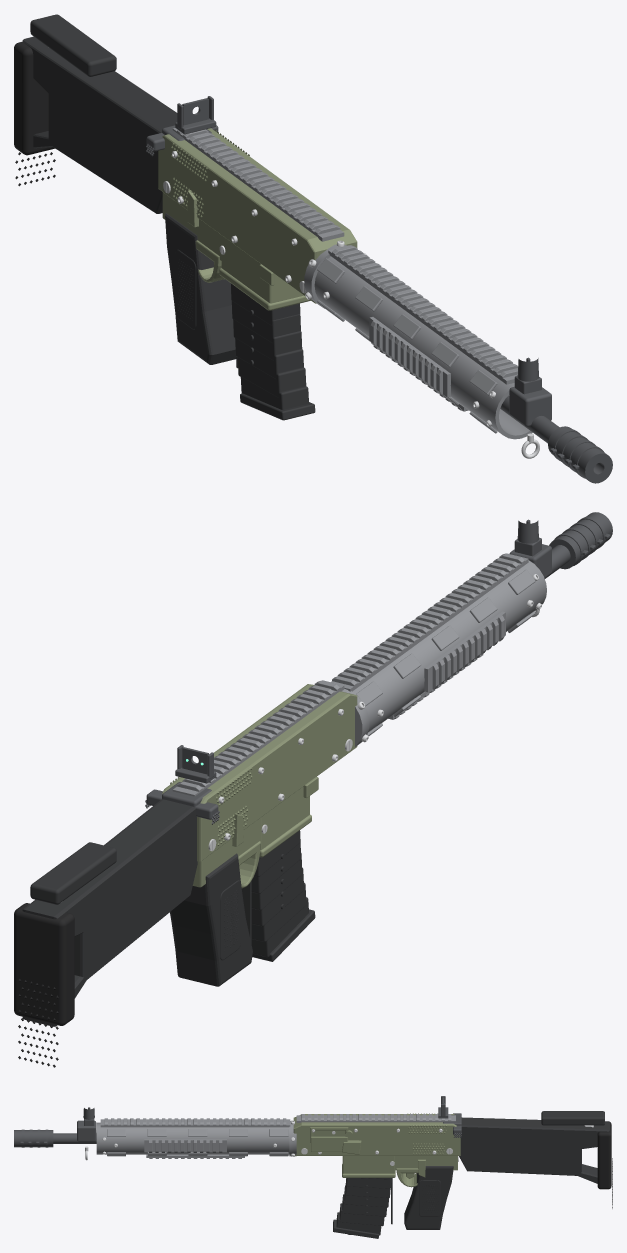
Rendered from fal.glb.
The picture shows the model from 3 angles, top to bottom: view 1: azimuth 30°, elevation 25°; view 2: azimuth 150°, elevation 25°; view 3: azimuth 270°, elevation 25°; orthographic projection. The views are drawn at different scales.
Parts seen in each view (by area): view 1: battle-rifle, magazine/polymerBlack; view 2: battle-rifle, magazine/polymerBlack, charge; view 3: battle-rifle, magazine/polymerBlack, charge.
Part boxes in pixels (<box>): battle-rifle: <box>14,14,612,483</box>; magazine/polymerBlack: <box>231,283,315,420</box>; battle-rifle: <box>14,512,612,1067</box>; magazine/polymerBlack: <box>241,830,315,961</box>; charge: <box>145,782,219,824</box>; battle-rifle: <box>14,1096,612,1229</box>; magazine/polymerBlack: <box>333,1178,392,1238</box>; charge: <box>443,1113,461,1137</box>.
Size of the model in its own units: 0.0652 by 0.2332 by 0.9403.
